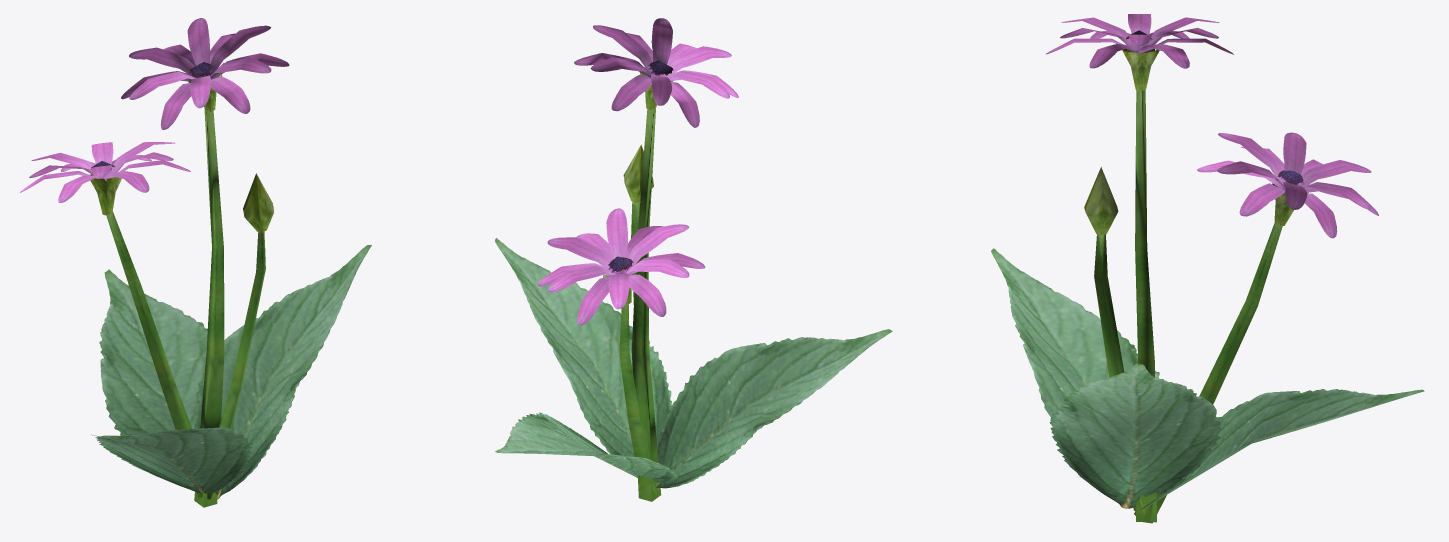
File: pinkf4.obj
The picture shows the model from 3 angles, left to right: view 1: azimuth 30°, elevation 25°; view 2: azimuth 150°, elevation 25°; view 3: azimuth 270°, elevation 25°; orthographic projection. The views are drawn at different scales.
Visible parts, largest first — view 1: pinkf04; view 2: pinkf04; view 3: pinkf04.
Boxes of the visible parts, x1=… form: pinkf04: x1=20, y1=18, x2=371, y2=507; pinkf04: x1=495, y1=18, x2=892, y2=501; pinkf04: x1=991, y1=14, x2=1424, y2=523.
Bounding box in the file's own units: 25.08 × 28.77 × 25.97.
Materials: 2 (2 with a texture image).
